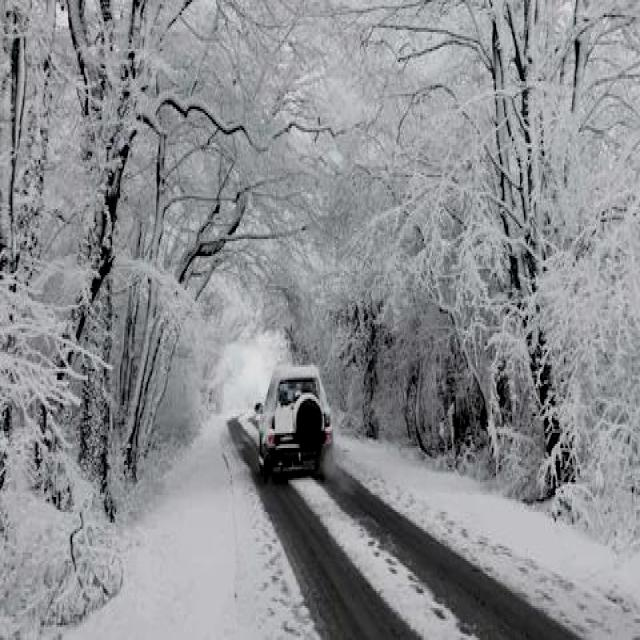Car: (262, 374, 326, 469)
